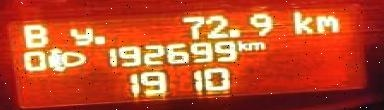-: (91, 33, 106, 44), (228, 27, 240, 38)
0: (202, 65, 231, 90), (20, 50, 46, 72)
1: (190, 67, 200, 94), (104, 44, 115, 67), (127, 71, 137, 96)
2: (202, 12, 228, 38), (142, 42, 164, 64)
6: (163, 42, 187, 64)
7: (180, 15, 202, 38)
9: (245, 11, 274, 35), (140, 70, 166, 94), (115, 43, 140, 67), (212, 39, 235, 61), (188, 41, 211, 61)
X: (19, 22, 48, 49), (290, 7, 314, 33), (313, 13, 341, 33), (67, 25, 91, 45), (247, 40, 266, 51), (236, 39, 247, 50)
